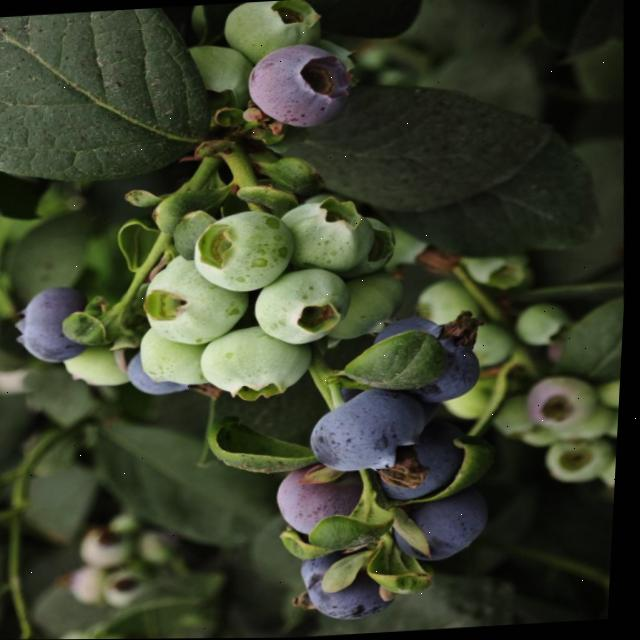RipeBlueBerry: (308, 387, 440, 480), (370, 314, 494, 407), (371, 421, 475, 504), (395, 487, 502, 563), (298, 553, 401, 624), (15, 282, 97, 367)
Semi-RipeBlueBerry: (244, 38, 359, 133), (277, 469, 370, 543), (528, 371, 601, 433)
UnripeBlueBerry: (142, 256, 254, 349), (191, 207, 301, 295), (201, 327, 322, 404), (253, 267, 360, 348), (278, 196, 381, 276), (141, 327, 215, 390)
